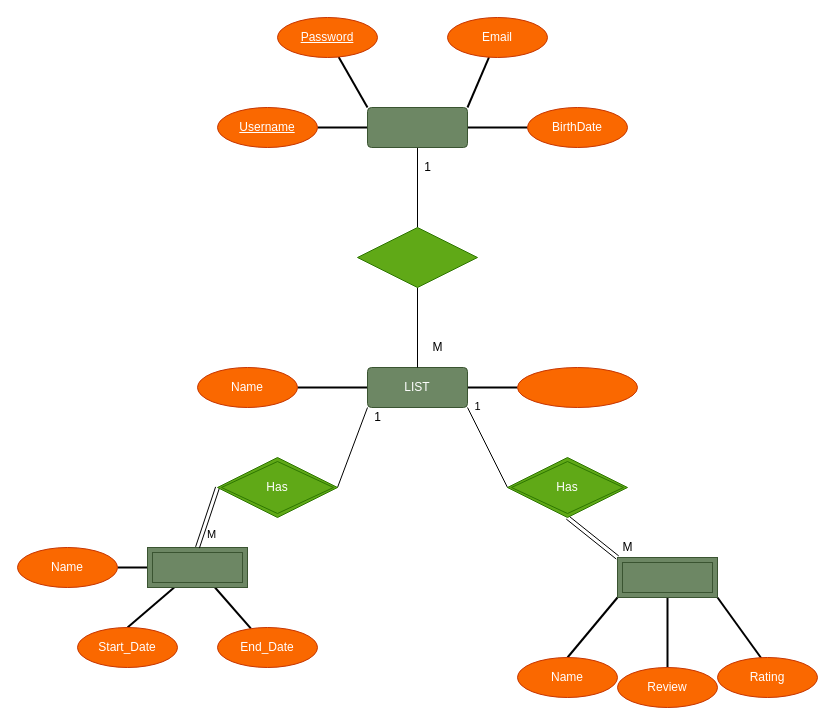
This 835x725 diagram has some shape labels left out. The centre of each missing label's shape, as x and y in pixels:
Create: point (417, 257)
Is_Favorite_List: point (577, 387)
Item: point (667, 577)
Task: point (197, 567)
USER: point (417, 127)
